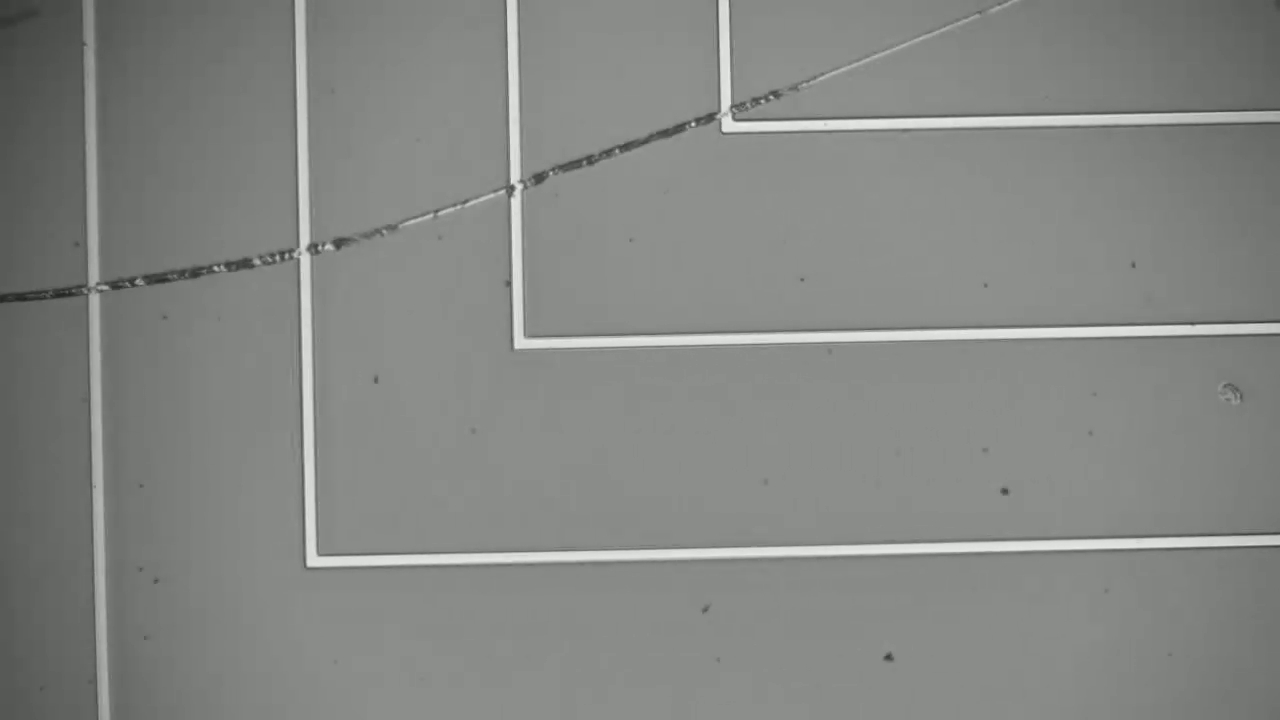scratch: (2, 1, 1027, 318)
